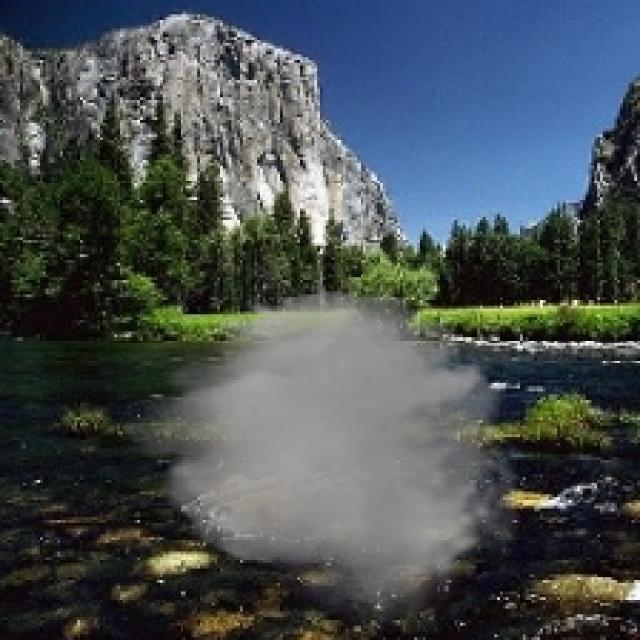Smoke: (112, 283, 537, 632)
